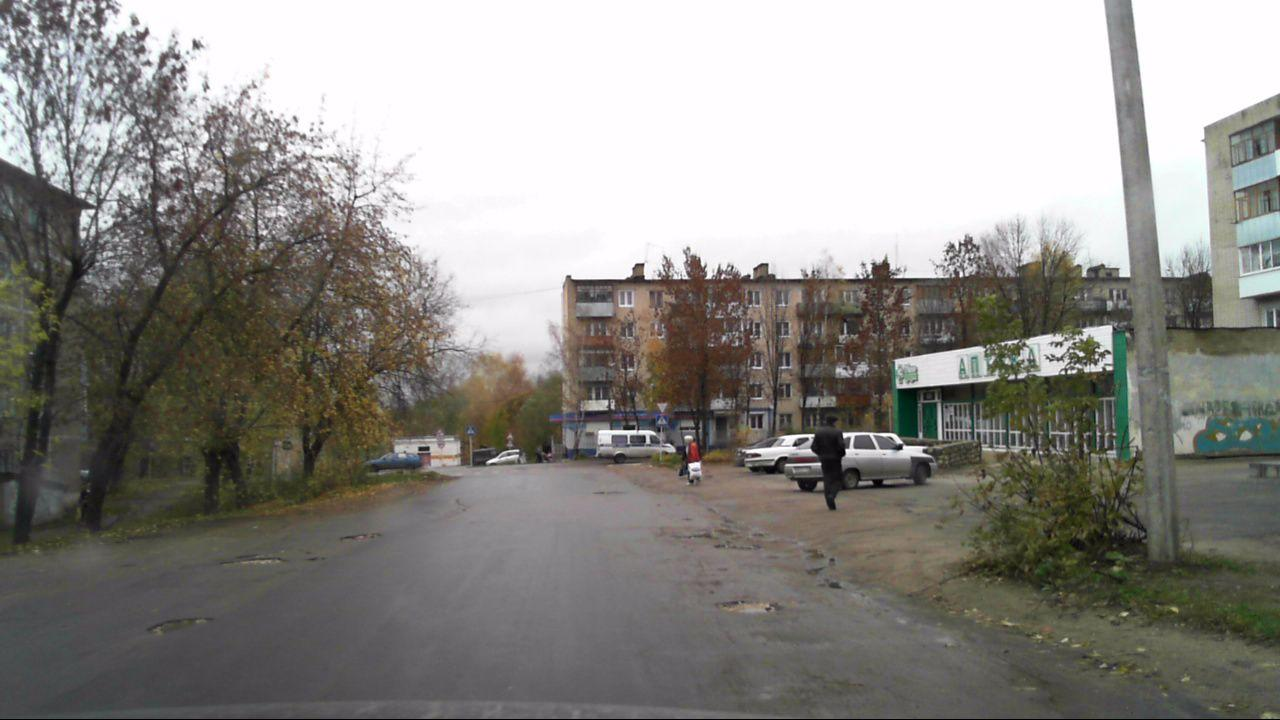pothole: (709, 519, 810, 557), (142, 611, 213, 636), (220, 549, 288, 568), (721, 598, 780, 614)
